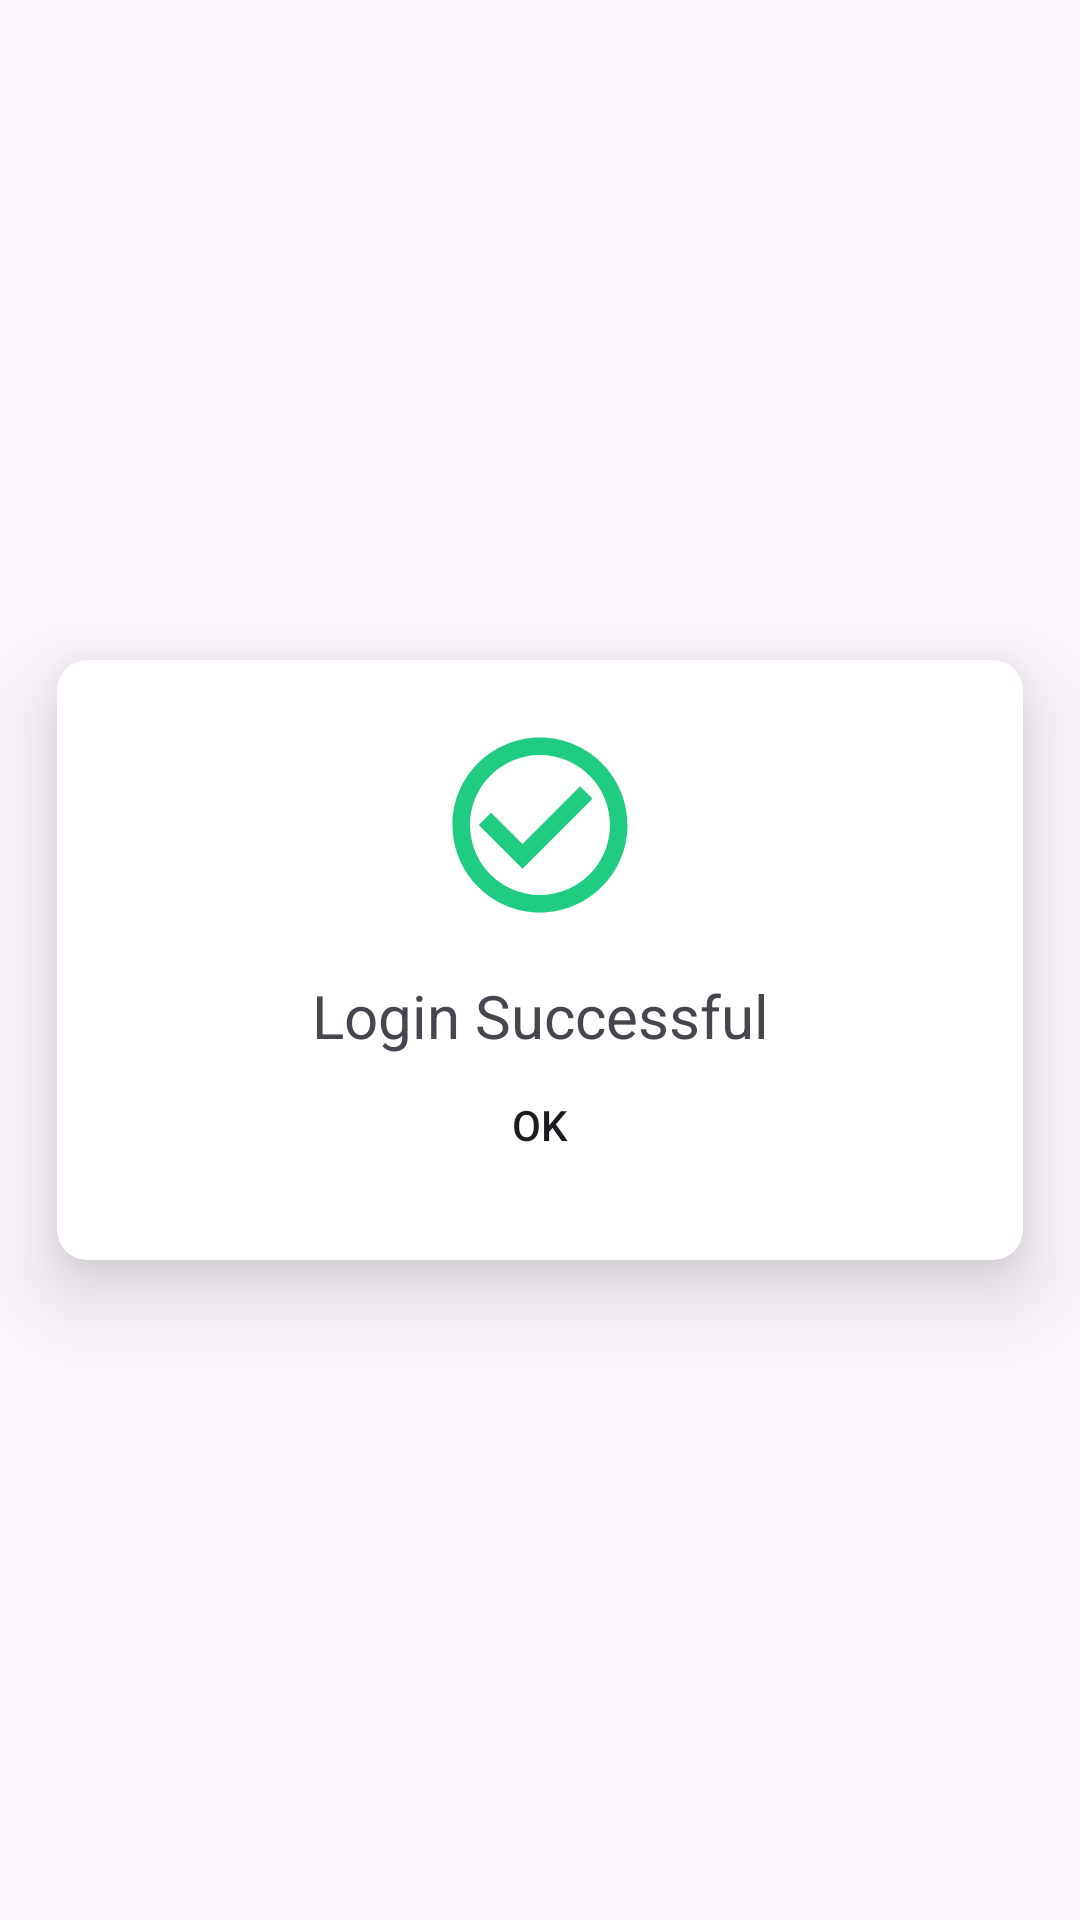

Icons on this 1080px×1920px Android screen, each with its box as detection(x1, y1, x2, y2):
check circle: detection(452, 737, 628, 913)
